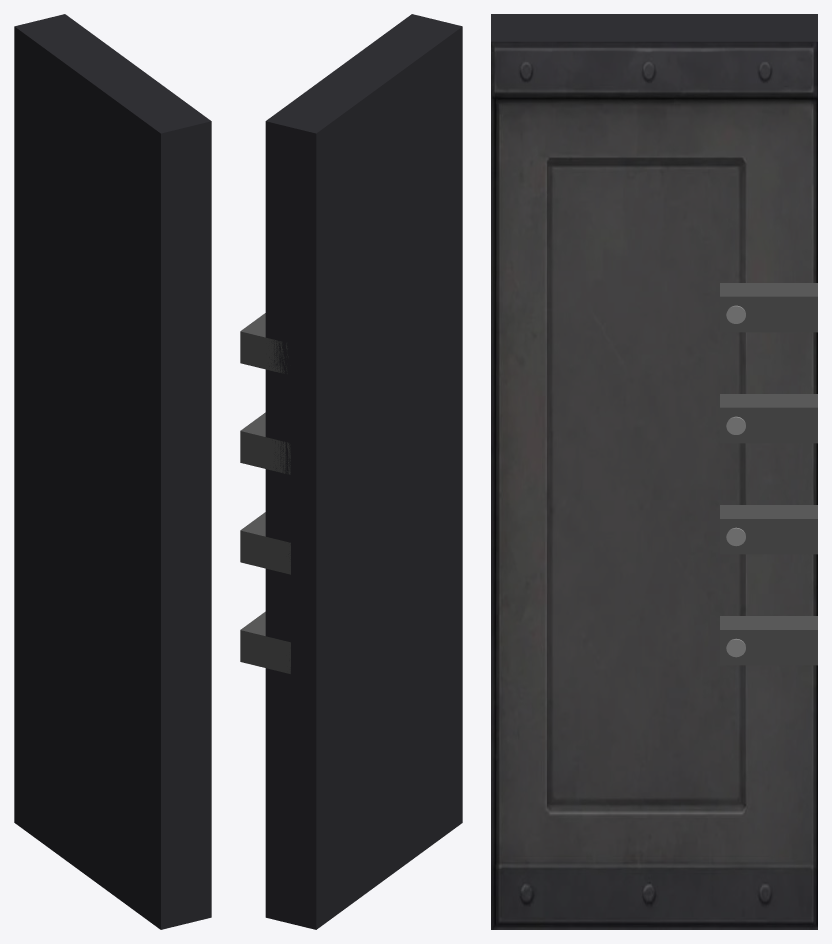
File: porta_folha_esq.fbx
The picture shows the model from 3 angles, left to right: view 1: azimuth 30°, elevation 25°; view 2: azimuth 150°, elevation 25°; view 3: azimuth 270°, elevation 25°; orthographic projection. The views are drawn at different scales.
Parts seen in each view (by area): view 1: Cube.001; view 2: Cube.001, Cube.007, Cube.012, Cube.006, Cylinder.008; view 3: Cube.001, Cube.007, Cube.012, Cube.006, Cylinder.008.
Boxes of the visible parts, x1,y1,x2,y2 form: Cube.001: [14, 14, 211, 929]; Cube.001: [265, 14, 462, 929]; Cube.007: [240, 512, 290, 574]; Cube.012: [240, 611, 290, 673]; Cube.006: [240, 412, 290, 474]; Cylinder.008: [240, 313, 288, 373]; Cube.001: [491, 14, 817, 929]; Cube.007: [720, 505, 817, 554]; Cube.012: [720, 616, 817, 665]; Cube.006: [720, 394, 817, 443]; Cylinder.008: [720, 283, 817, 332].
Size of the model in its own units: 0.61 by 6 by 2.
